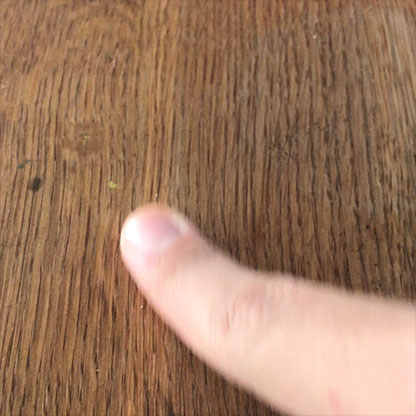fingertip: (104, 180, 206, 277)
